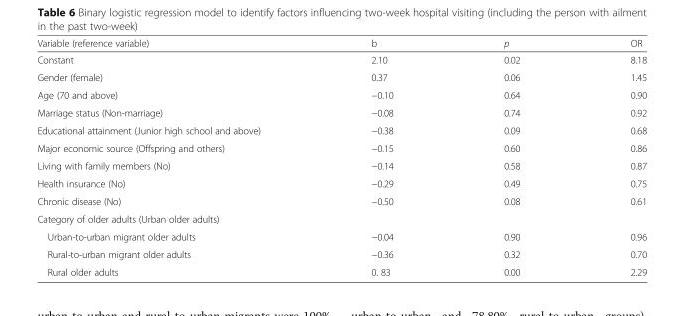table: (36, 37, 646, 277)
table column: (36, 37, 315, 277), (315, 37, 447, 277), (447, 37, 574, 277), (574, 37, 646, 277)
table column header: (36, 37, 646, 50)
table projected row header: (36, 209, 646, 227)
table row: (36, 50, 646, 68), (36, 85, 646, 103), (36, 103, 646, 121), (36, 138, 646, 156), (36, 156, 646, 174), (36, 191, 646, 209), (36, 209, 646, 227), (36, 244, 646, 262), (36, 68, 646, 85), (36, 121, 646, 138), (36, 174, 646, 191), (36, 227, 646, 244), (36, 262, 646, 277), (36, 37, 646, 50)
